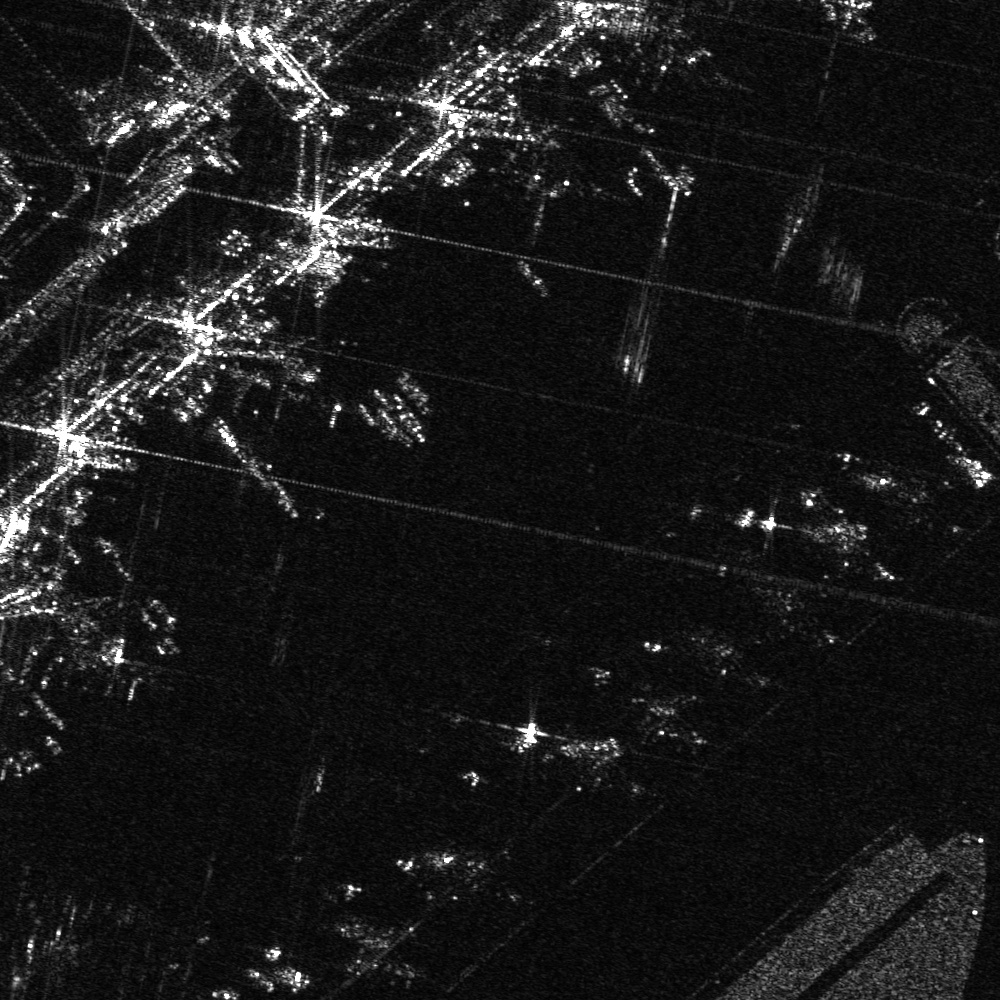A330: (231, 326, 351, 426)
Boeing737: (24, 588, 172, 697), (833, 445, 942, 540), (796, 489, 888, 591), (335, 914, 443, 999), (411, 841, 533, 916), (741, 569, 847, 655), (692, 622, 791, 704), (562, 737, 656, 811), (638, 684, 707, 754)
